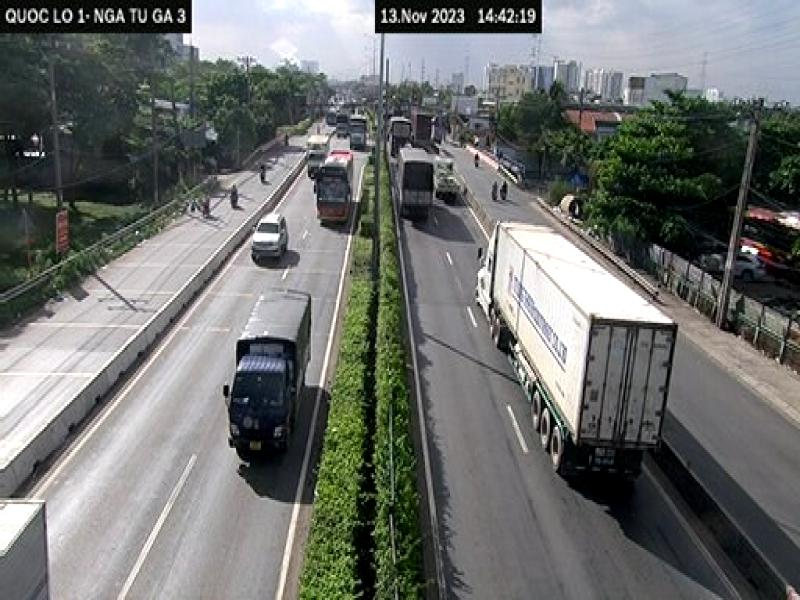bus: (310, 146, 357, 231)
truck: (473, 222, 680, 490), (211, 283, 322, 462)
